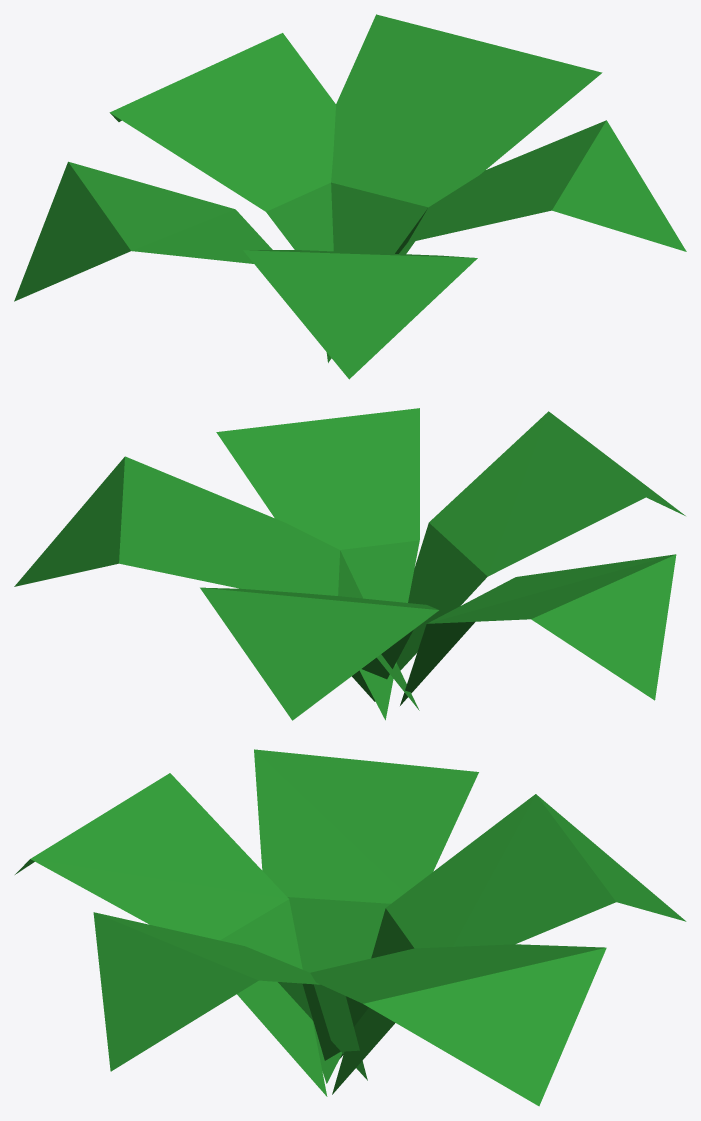
The model's file is zhuangshi_21.FBX.
3 renders of one model, top to bottom at view 1: azimuth 30°, elevation 25°; view 2: azimuth 150°, elevation 25°; view 3: azimuth 270°, elevation 25°, orthographic. The views are drawn at different scales.
Parts seen in each view (by area): view 1: zhuangshi_21; view 2: zhuangshi_21; view 3: zhuangshi_21.
Boxes of the visible parts, <box> form: zhuangshi_21: <box>14,14,686,379</box>; zhuangshi_21: <box>14,408,685,720</box>; zhuangshi_21: <box>15,749,686,1106</box>.
Bounding box in the file's own units: 387 × 128 × 357.
